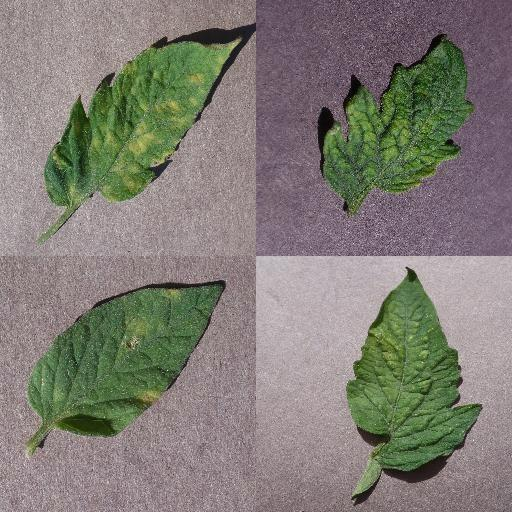Leaf Mold: (45, 37, 241, 207), (26, 282, 226, 438)
Mosaic Virus: (319, 36, 475, 200)
Spider Mites: (346, 265, 484, 473)
